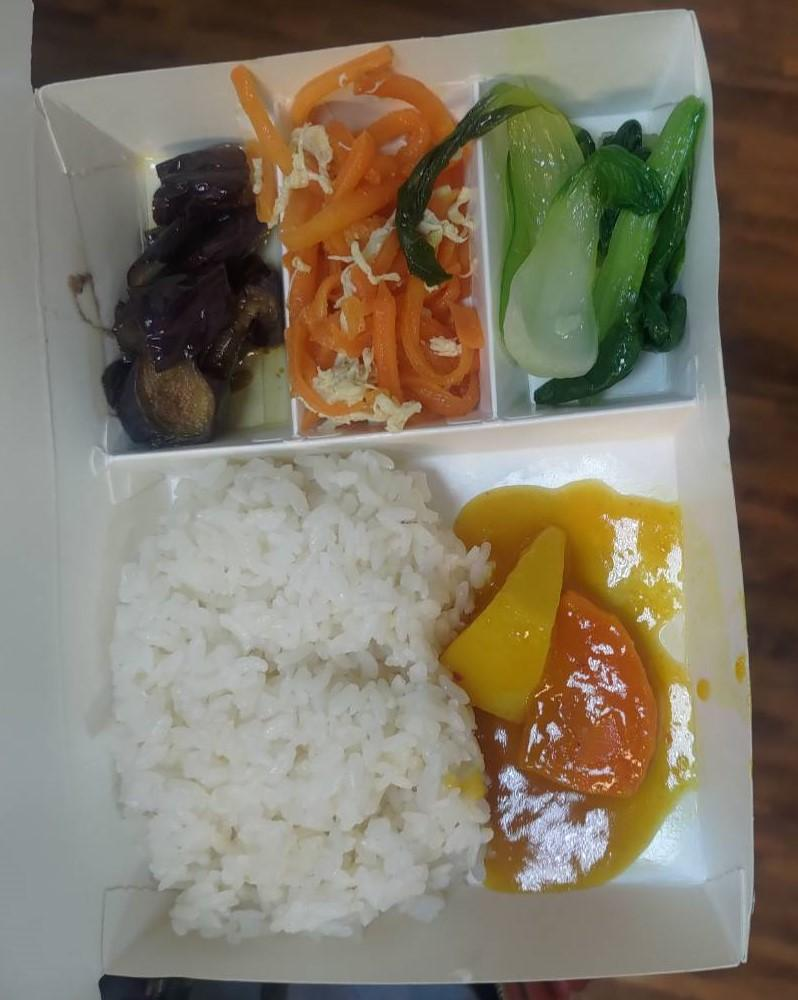big grilled chicken leg: (8, 6, 772, 1000)
big herbal chicken leg: (84, 438, 476, 953)
braised fish fillet: (400, 66, 708, 412), (236, 46, 476, 424), (462, 486, 678, 905), (95, 140, 276, 452)
